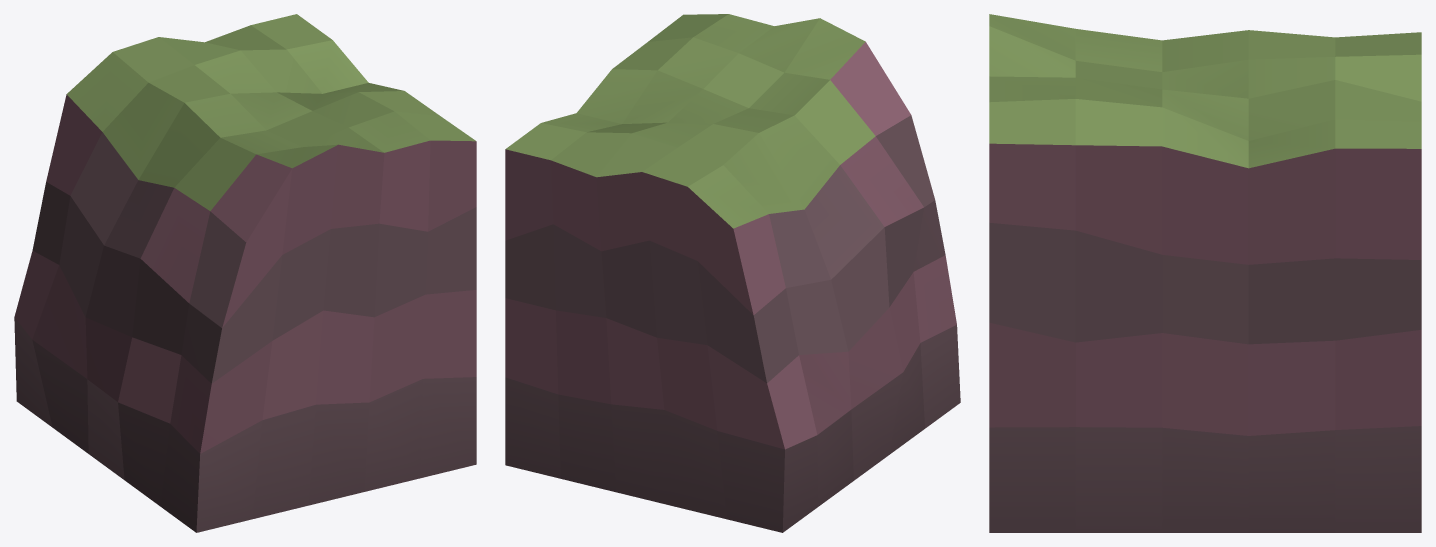
The model's file is roca_te.glb.
3 renders of one model, left to right at view 1: azimuth 30°, elevation 25°; view 2: azimuth 150°, elevation 25°; view 3: azimuth 270°, elevation 25°, orthographic. The views are drawn at different scales.
Parts seen in each view (by area): view 1: propforge-cuartos-roca_te; view 2: propforge-cuartos-roca_te; view 3: propforge-cuartos-roca_te.
Boxes of the visible parts, bbox=[...] form: propforge-cuartos-roca_te: bbox=[14, 14, 476, 532]; propforge-cuartos-roca_te: bbox=[505, 14, 960, 532]; propforge-cuartos-roca_te: bbox=[989, 14, 1421, 532].
Bounding box in the file's own units: 0.933 × 1.09 × 1.
